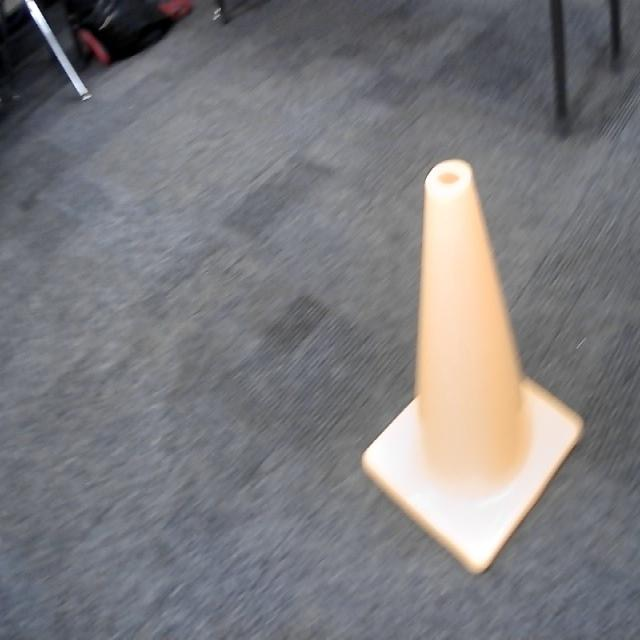cone: (360, 155, 586, 576)
